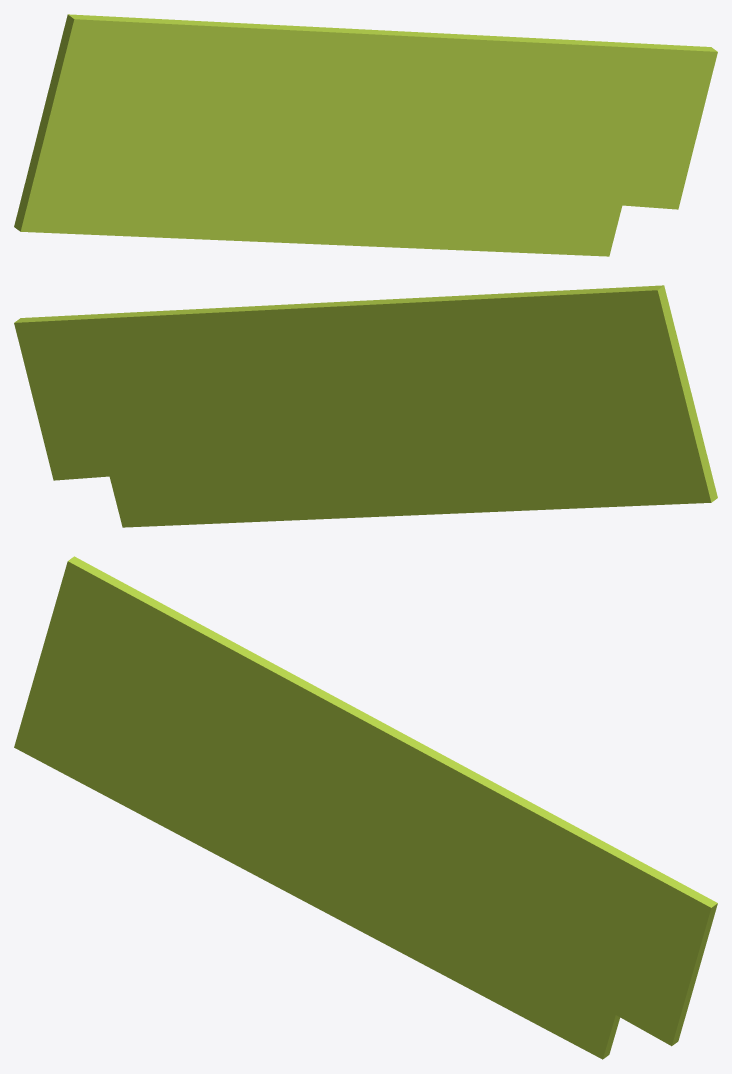
3 renders of one model, top to bottom at view 1: azimuth 30°, elevation 25°; view 2: azimuth 150°, elevation 25°; view 3: azimuth 330°, elevation 25°, orthographic.
Visible parts, largest first — view 1: osm-way27917482-F0; view 2: osm-way27917482-F0; view 3: osm-way27917482-F0.
Part boxes in pixels (bbox=[...]): osm-way27917482-F0: bbox=[14, 14, 717, 256]; osm-way27917482-F0: bbox=[14, 285, 717, 527]; osm-way27917482-F0: bbox=[14, 556, 717, 1059].
Size of the model in its own units: 9.15 by 4.62 by 0.15.
